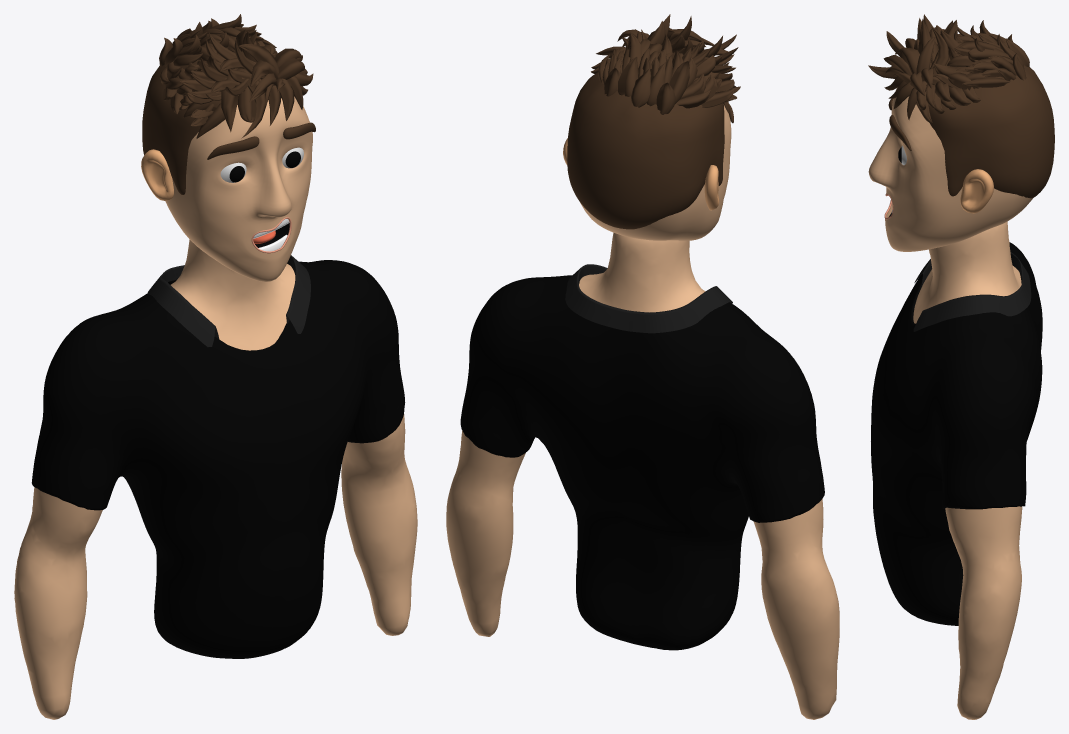
File: myCharacter4.glb
3 views of the same model, side by side, from view 1: azimuth 30°, elevation 25°; view 2: azimuth 150°, elevation 25°; view 3: azimuth 270°, elevation 25° (orthographic). The views are drawn at different scales.
Visible parts, largest first — view 1: Kunas, Galva; view 2: Kunas, Galva; view 3: Kunas, Galva.
Part boxes in pixels (box(x1,y1,x2,y2)): Kunas: box(14, 239, 417, 719); Galva: box(141, 14, 315, 281); Kunas: box(446, 232, 839, 719); Galva: box(563, 14, 740, 240); Kunas: box(871, 221, 1042, 719); Galva: box(868, 14, 1054, 251).
Size of the model in its own units: 0.4827 by 0.775 by 0.2125.
Materials: 2 (2 with a texture image).
